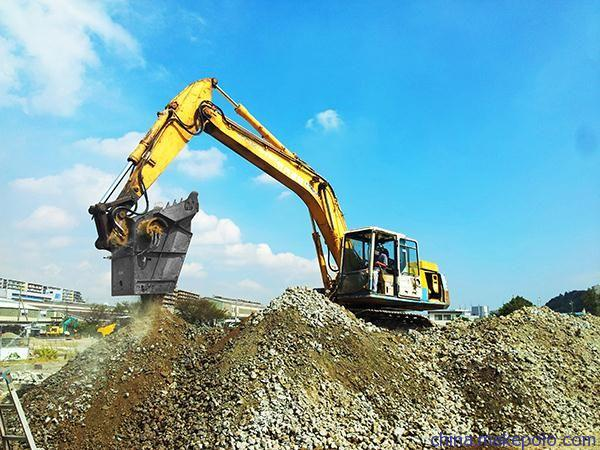excavator: (79, 74, 447, 344)
